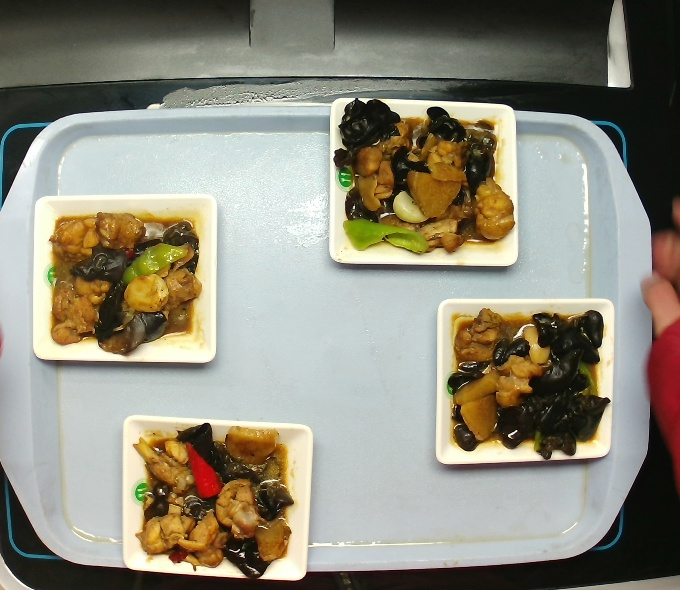wcq-MuErJiRou: (133, 418, 299, 583), (349, 90, 504, 259), (48, 205, 208, 354), (453, 307, 599, 452)
